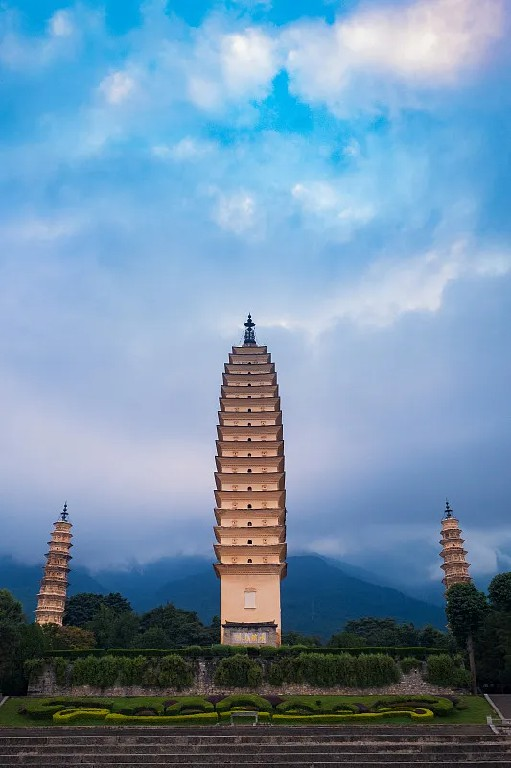ThreePagoda: (212, 312, 287, 649)
